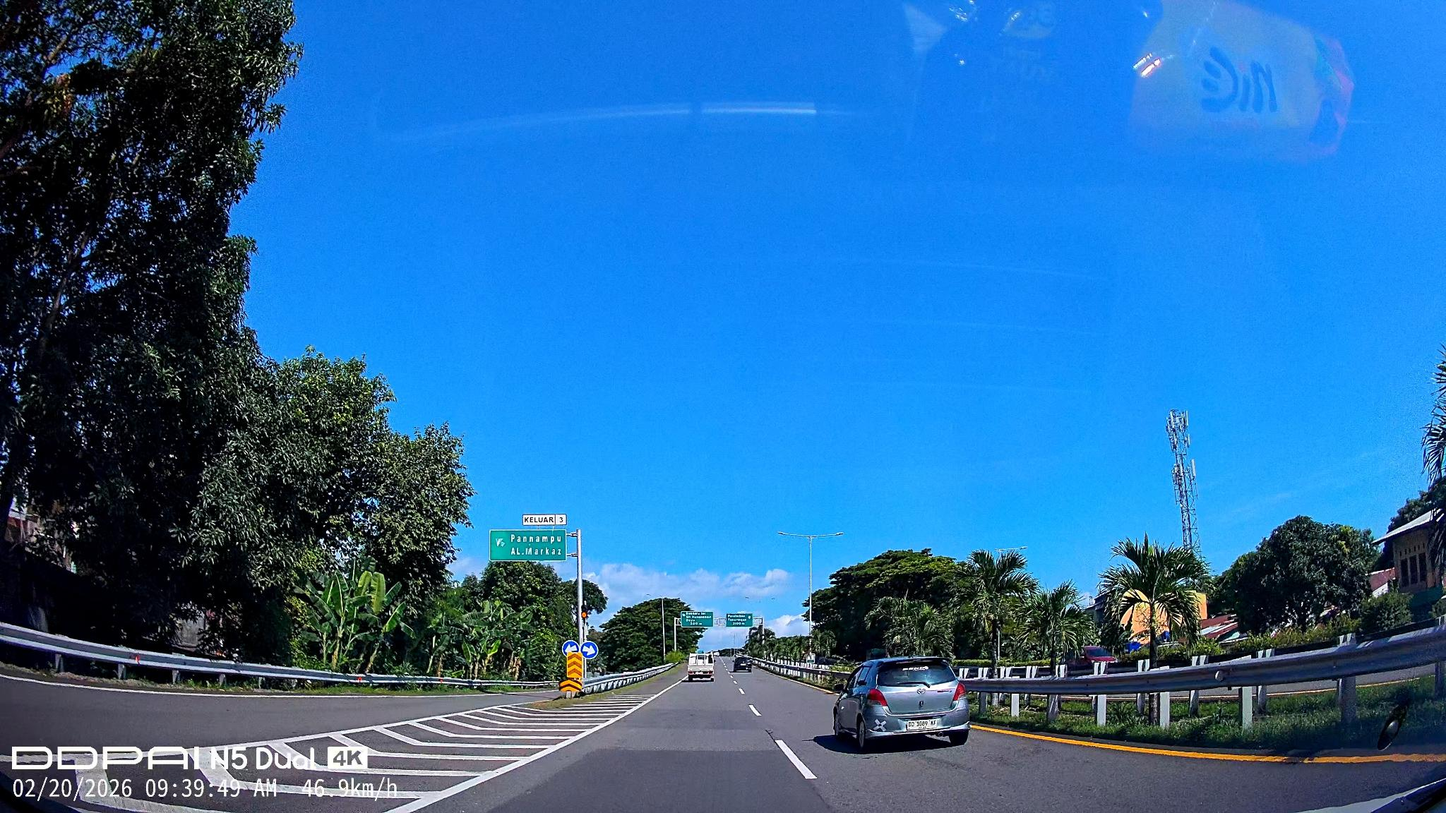rambu_teks: (489, 529, 567, 562)
